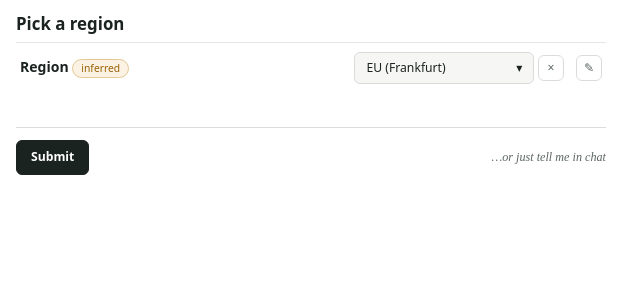
boolean toggle and the searchable list (§4.2/§7.3) › renders the list in flow inline — never a popover in a card (§7.3)
Click the button with aria-label "Region".
click(444, 68)  # box 354,52 -> 534,84
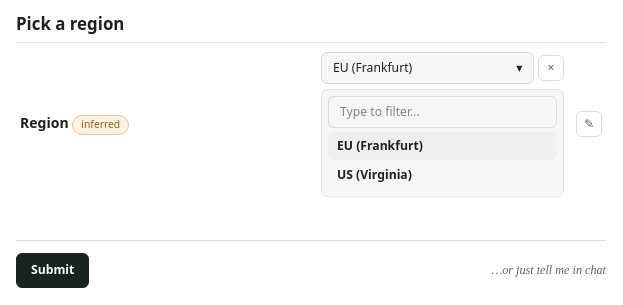
Now the element with class "combo-inline" is shown, box 321,89 -> 564,197
Now the option "US (Virginia)" is shown, box 328,161 -> 557,190
